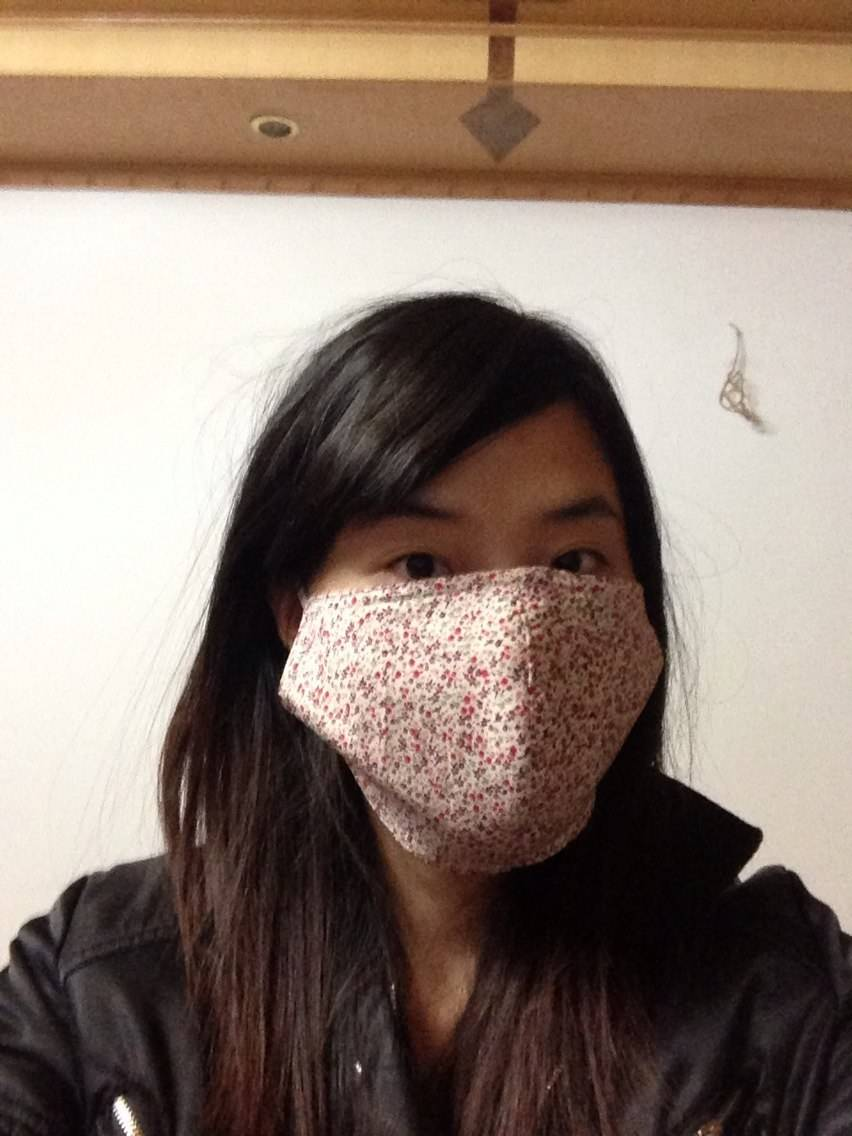face_mask: (325, 357, 643, 854)
